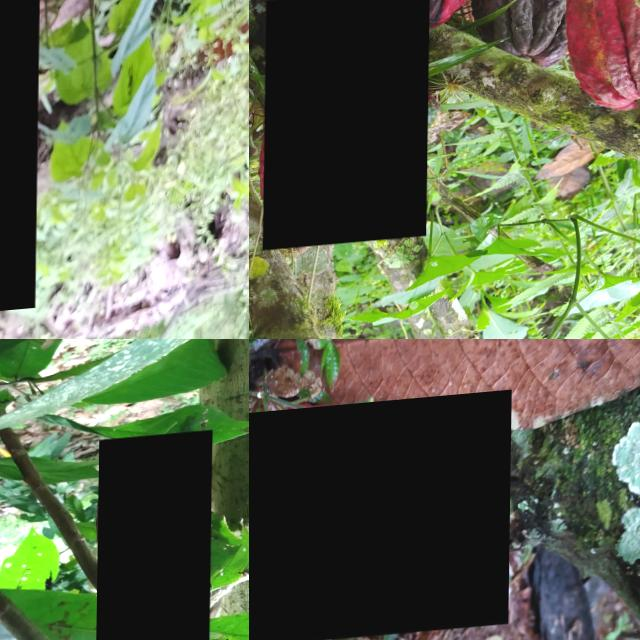Fitoftora: (97, 437, 213, 640), (468, 0, 602, 84), (375, 0, 490, 38)
Monilia: (249, 397, 512, 640)
Sana: (264, 0, 430, 254), (563, 0, 640, 125)
